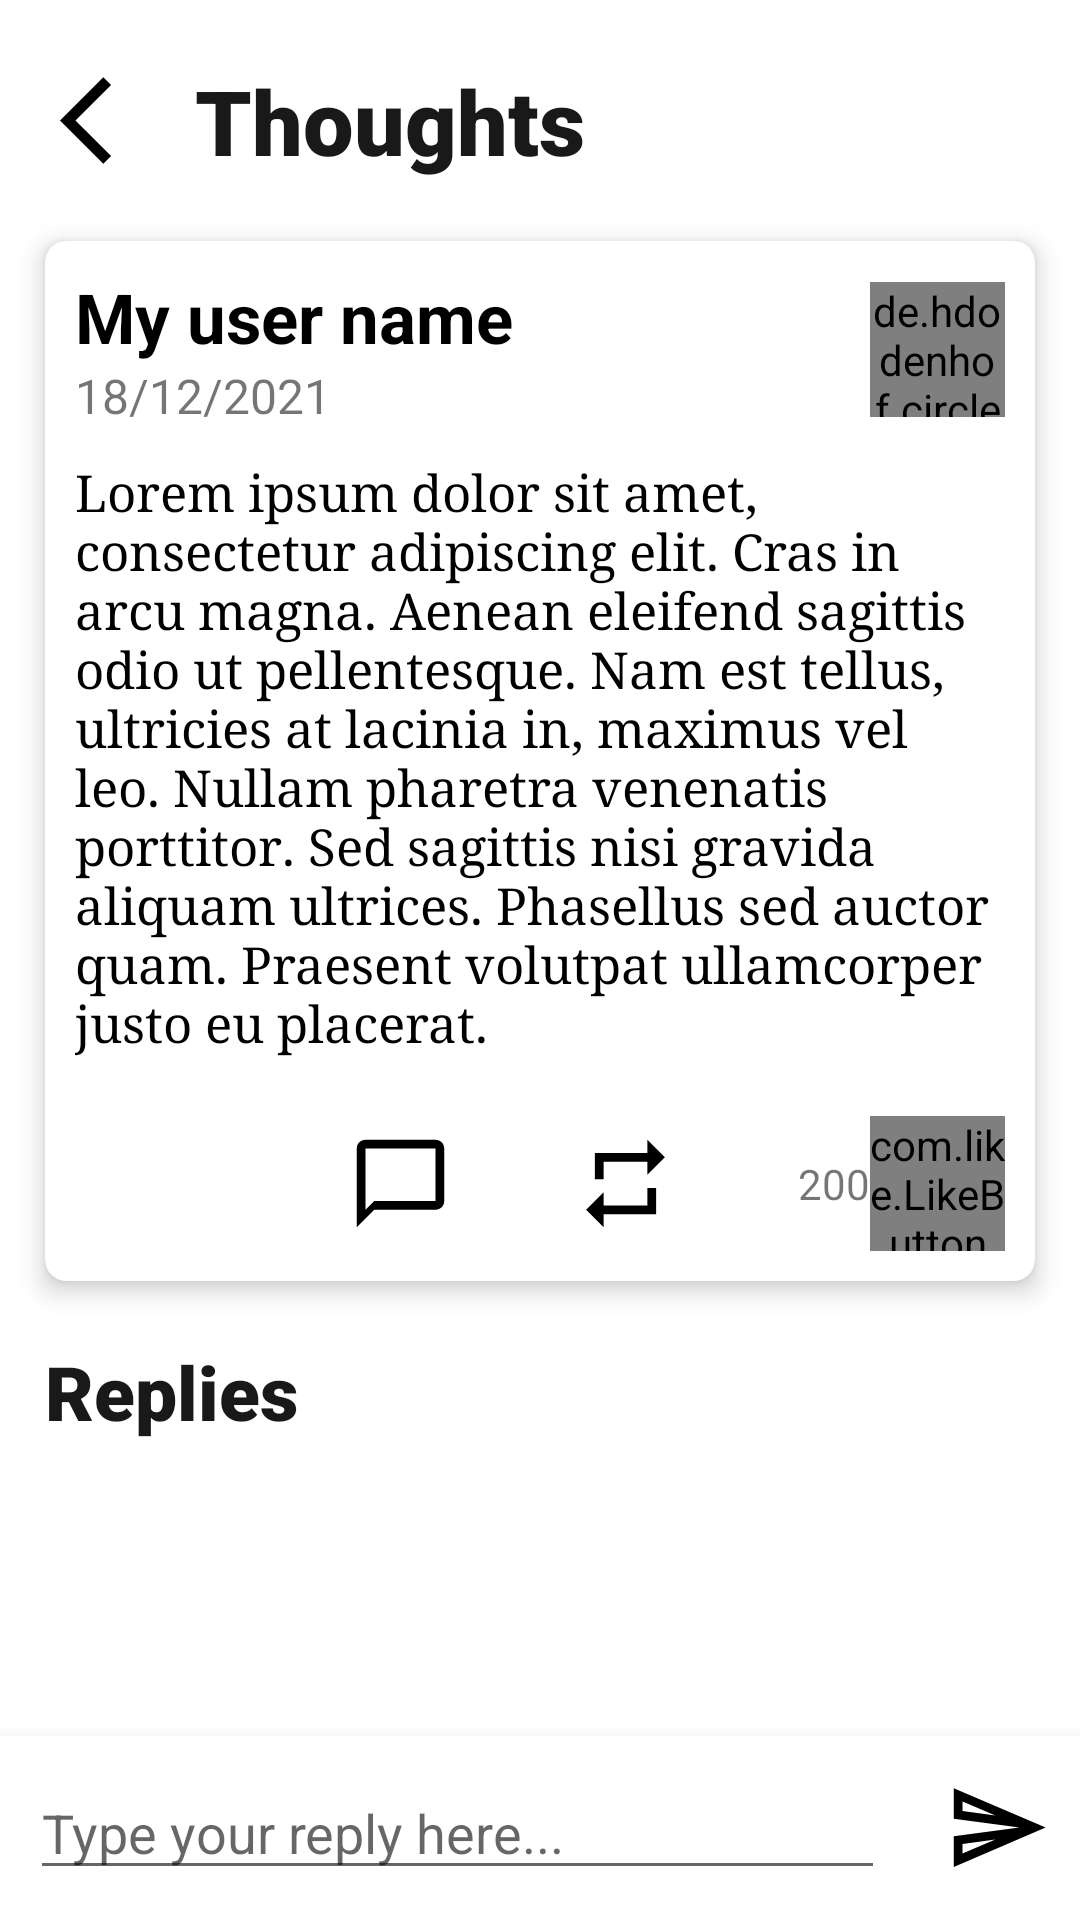

Screen size 1080px x 1920px. Icon name, then its center in pixels as (x=x, y=y):
arrow back: (x=85, y=120)
chat bubble: (x=400, y=1183)
retweet: (x=625, y=1183)
send: (x=999, y=1827)
